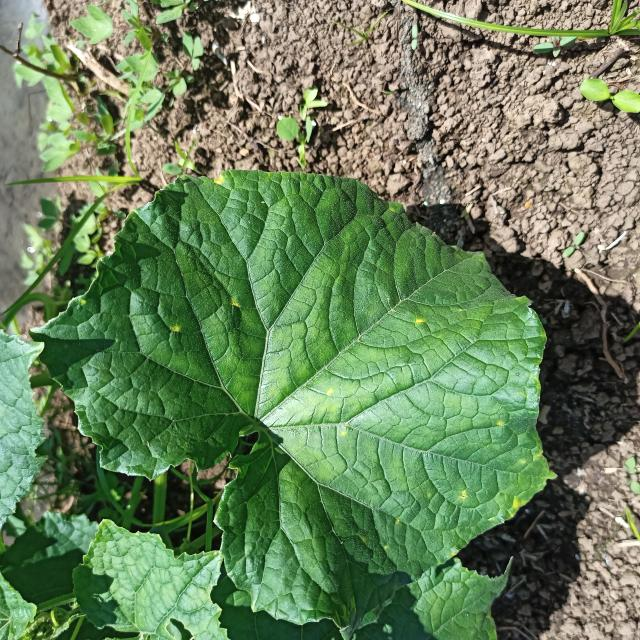disease_cucumber: (509, 496, 526, 516), (230, 299, 240, 308), (214, 176, 222, 186), (79, 297, 87, 306), (172, 325, 180, 332), (326, 388, 334, 395), (416, 318, 424, 324), (340, 429, 345, 436), (461, 491, 466, 498), (497, 422, 504, 426), (396, 519, 401, 522), (452, 552, 455, 556)
